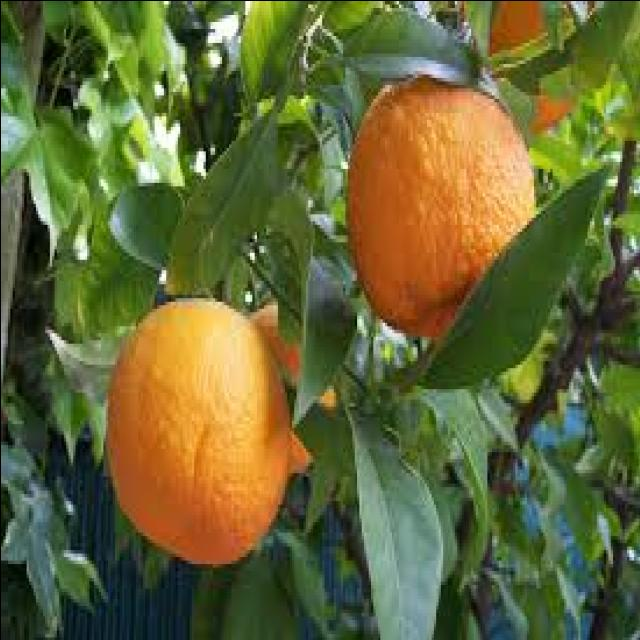orange: (93, 276, 300, 564), (336, 68, 542, 338)
